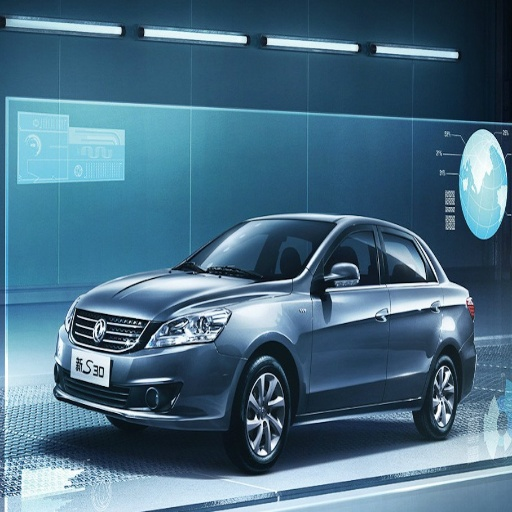back_left_door: (378, 224, 439, 398)
front_bumper: (54, 308, 245, 427)
front_glass: (168, 220, 333, 278)
front_left_door: (307, 224, 389, 408)
